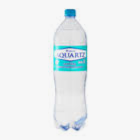Bottle: (53, 9, 87, 131)
